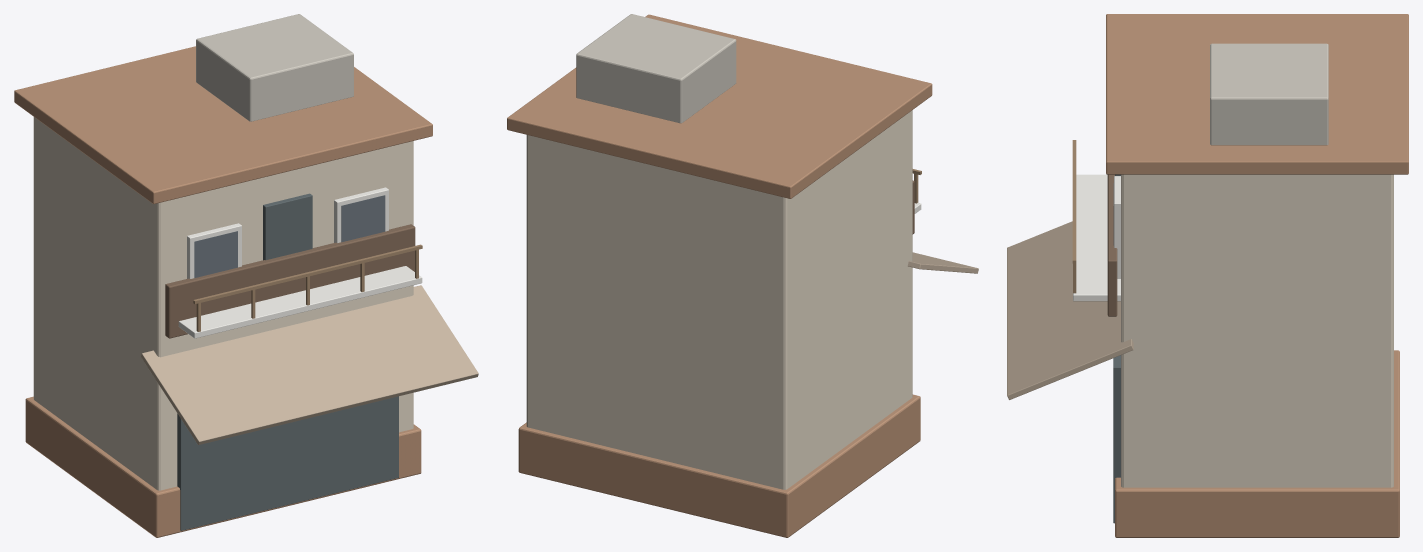
Rendered from shop.glb.
3 renders of one model, left to right at view 1: azimuth 30°, elevation 25°; view 2: azimuth 150°, elevation 25°; view 3: azimuth 270°, elevation 25°, orthographic. The views are drawn at different scales.
Parts seen in each view (by area): view 1: Body, RoofSlab, ShopAwn, Recess, RoofBox, SignBoard, Base, BalconySlab, DoorUp, WinGlass.001, WinGlass, BalcRail (+2 smaller); view 2: Body, RoofSlab, Base, RoofBox, ShopAwn; view 3: Body, RoofSlab, Base, ShopAwn, RoofBox, BalconySlab, SignBoard, Recess, WinFrame.001, BalcRail.
Part boxes in pixels (bbox=[...]): Body: bbox=[33, 117, 413, 490]; RoofSlab: bbox=[14, 46, 432, 203]; ShopAwn: bbox=[141, 285, 478, 444]; Recess: bbox=[177, 396, 398, 530]; RoofBox: bbox=[196, 14, 353, 121]; SignBoard: bbox=[165, 224, 415, 338]; Base: bbox=[25, 396, 421, 537]; BalconySlab: bbox=[178, 266, 422, 338]; DoorUp: bbox=[263, 193, 312, 260]; WinGlass.001: bbox=[341, 195, 385, 242]; WinGlass: bbox=[194, 231, 237, 278]; BalcRail: bbox=[193, 244, 422, 303]; Body: bbox=[526, 110, 912, 489]; RoofSlab: bbox=[507, 14, 932, 198]; Base: bbox=[518, 394, 920, 537]; RoofBox: bbox=[576, 14, 736, 123]; ShopAwn: bbox=[907, 252, 978, 273]; Body: bbox=[1121, 174, 1393, 487]; RoofSlab: bbox=[1106, 14, 1408, 174]; Base: bbox=[1115, 350, 1399, 537]; ShopAwn: bbox=[1007, 221, 1133, 399]; RoofBox: bbox=[1210, 43, 1328, 145]; BalconySlab: bbox=[1073, 174, 1120, 301]; SignBoard: bbox=[1107, 174, 1117, 316]; Recess: bbox=[1113, 355, 1120, 523]; WinFrame.001: bbox=[1114, 176, 1120, 278]; BalcRail: bbox=[1072, 140, 1076, 263].
Bounding box in the file's own units: 5.9 × 7.95 × 6.77.
